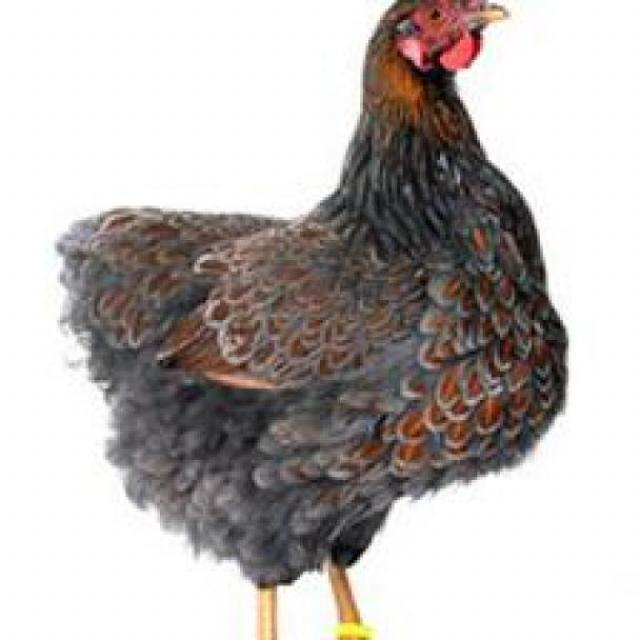Chicken: (47, 0, 607, 640)
